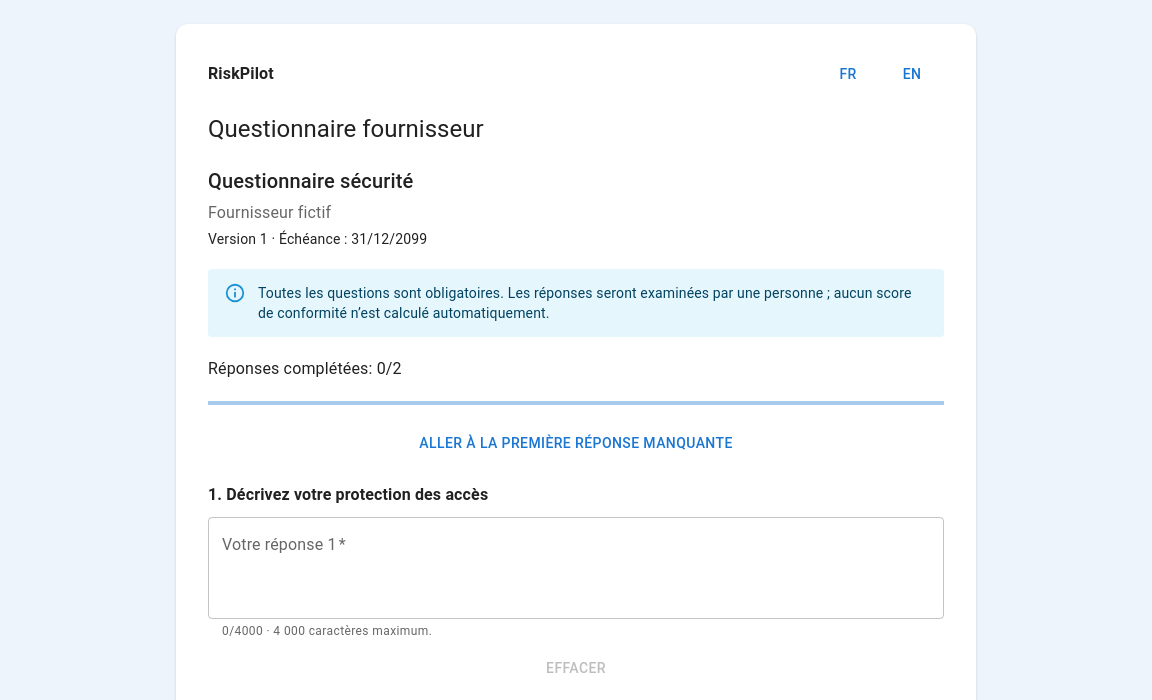
it: PublicSupplierAssessmentPage › shows progress, focuses missing answers, clears answers and flags whitespace
Type "MFA" into the text box labelled "Votre réponse 1 *".
click(576, 568); type("MFA")  # box [222,534,930,603]
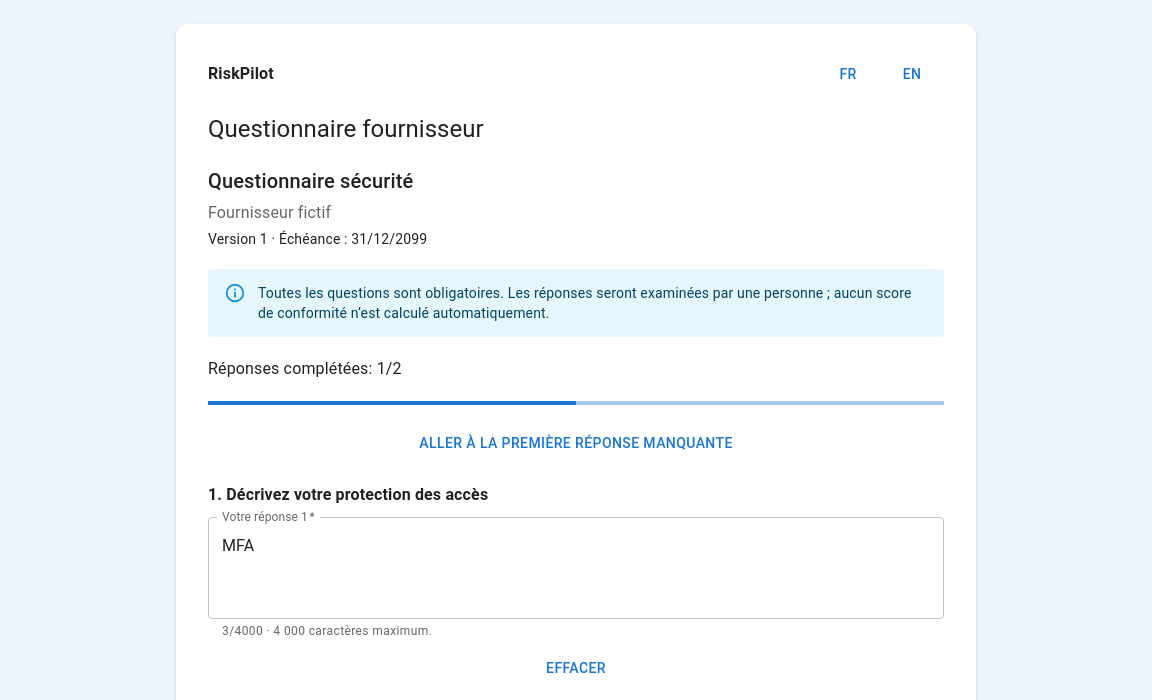
Check: the text "Réponses complétées: 1/2" is shown, box [208,359,402,378]
Click the button "Aller à la première réponse manquante".
click(576, 443)  # box [208,425,944,461]
(page scrolled)
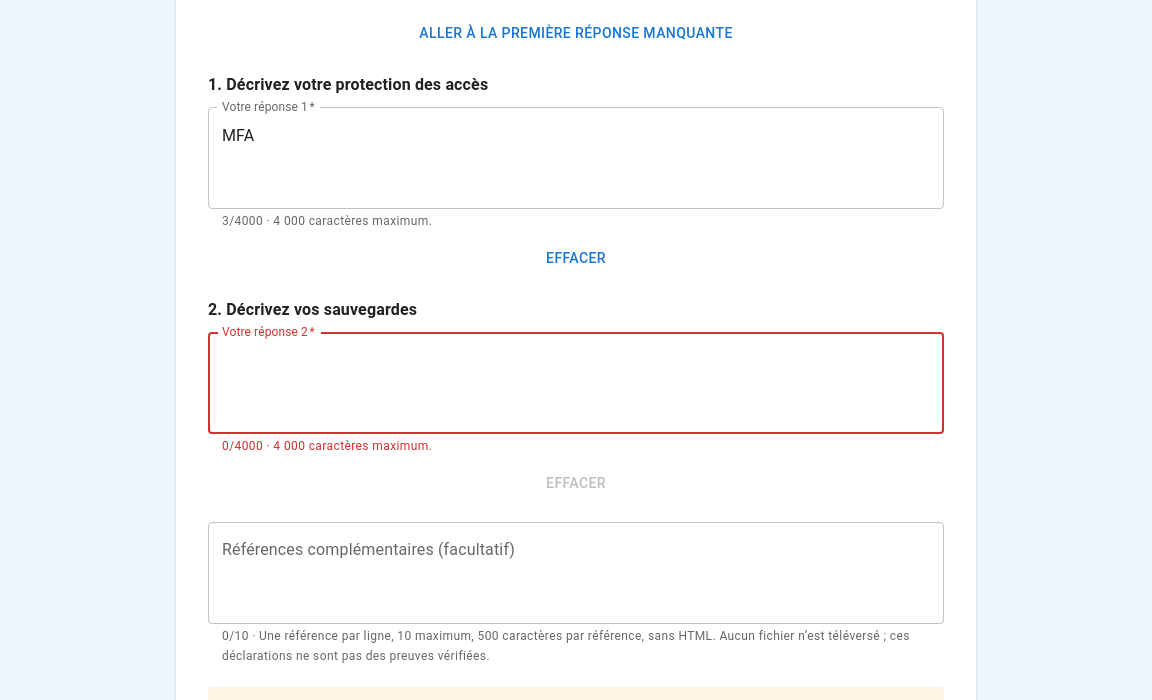
Click the button with aria-label "Effacer la réponse 1".
click(576, 258)  # box [208,240,944,276]
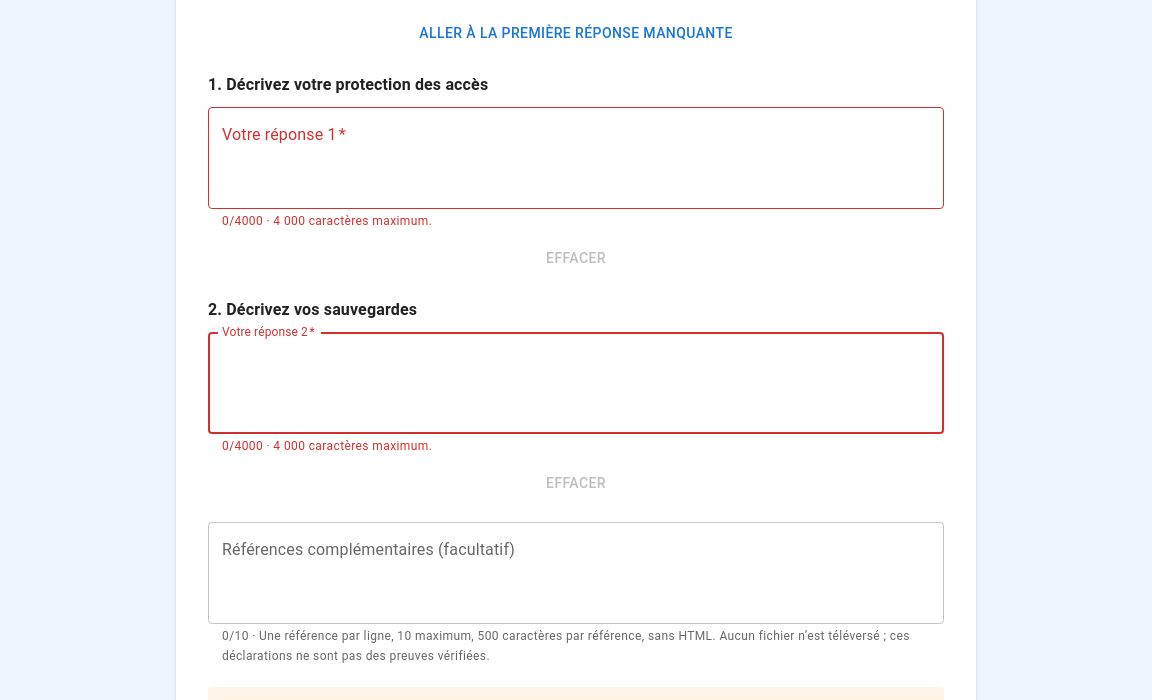
Check: the text box labelled "Votre réponse 1 *" is empty, box [222,124,930,193]
